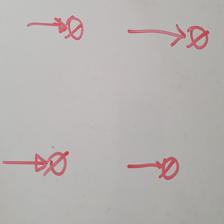degradation: (127, 22, 211, 51), (1, 151, 69, 176), (27, 15, 84, 40), (126, 156, 180, 180)
